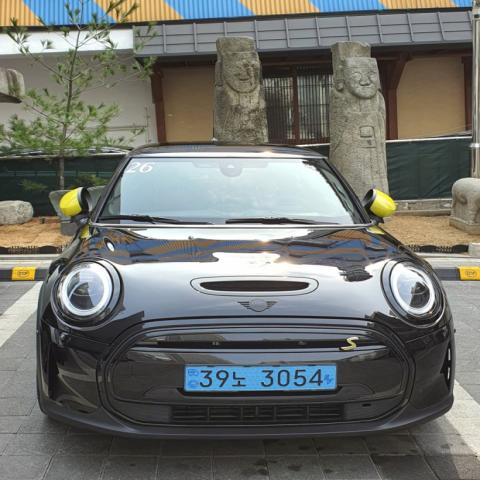LP: (180, 359, 341, 399)
